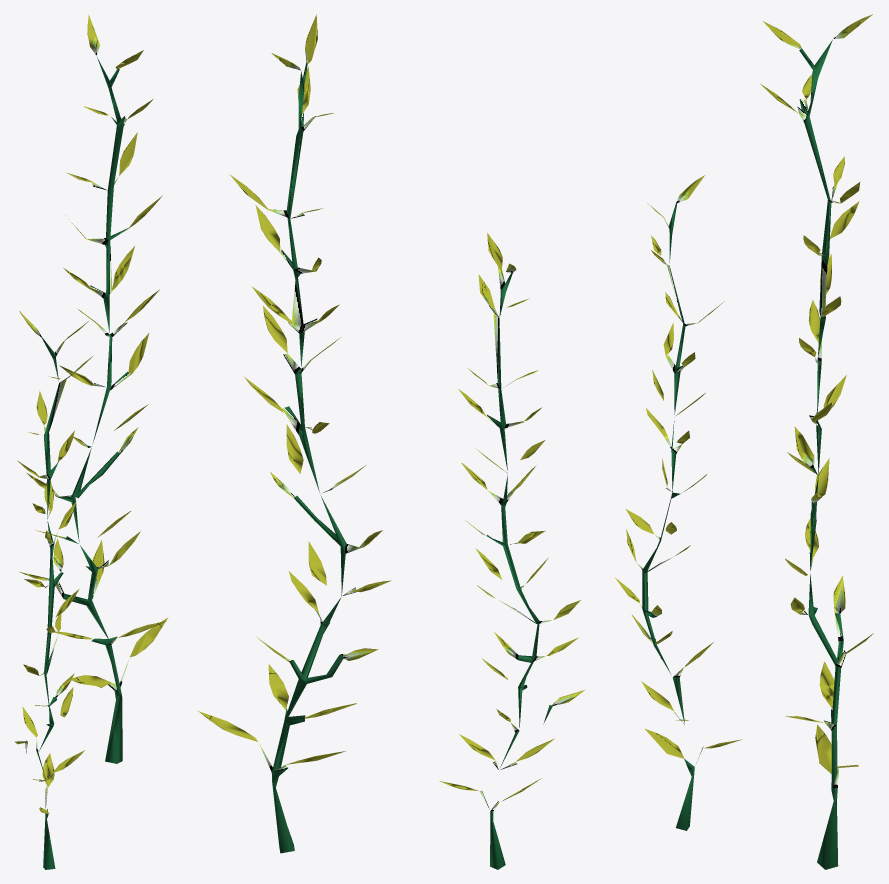
File: reka_trava_2.glb
3 views of the same model, side by side, from view 1: azimuth 30°, elevation 25°; view 2: azimuth 150°, elevation 25°; view 3: azimuth 270°, elevation 25° (orthographic). The views are drawn at different scales.
Visible parts, largest first — view 1: reka_trava_2; view 2: reka_trava_2; view 3: reka_trava_2.
Part boxes in pixels (<box>): reka_trava_2: <box>15,14,168,869</box>; reka_trava_2: <box>198,14,584,869</box>; reka_trava_2: <box>615,14,873,869</box>.
Size of the model in its own units: 1.23 by 3.57 by 0.9524.
1 material, 1 textured.
